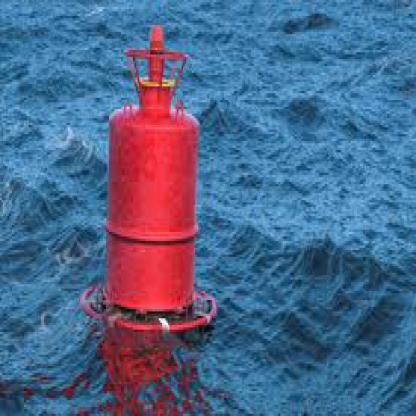buoy: (86, 14, 224, 341)
